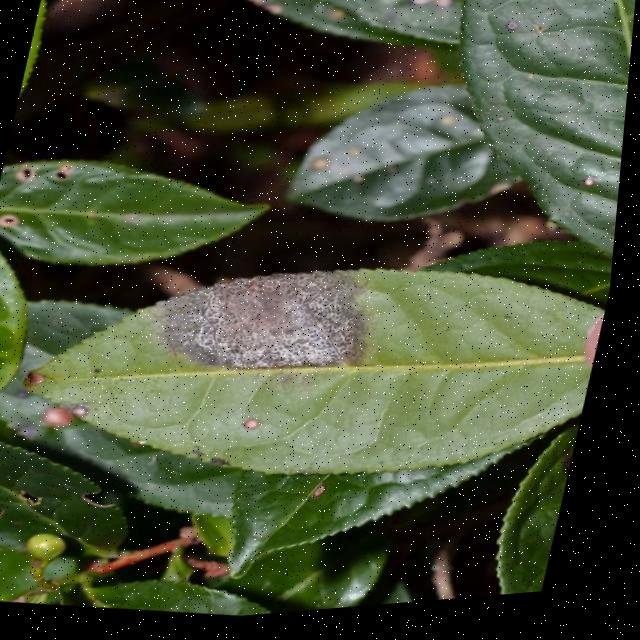Tea exobasidium blight: (155, 252, 375, 400)
